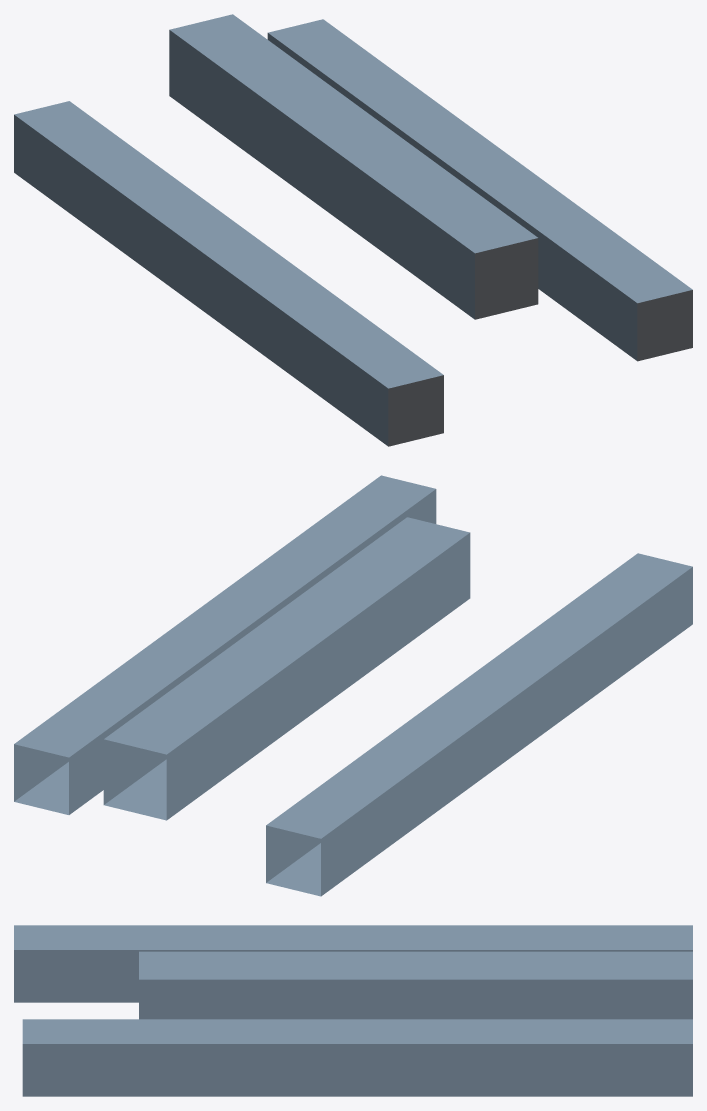
Rendered from island_bldg_08_06.obj.
3 renders of one model, top to bottom at view 1: azimuth 30°, elevation 25°; view 2: azimuth 150°, elevation 25°; view 3: azimuth 270°, elevation 25°, orthographic. The views are drawn at different scales.
Parts seen in each view (by area): view 1: island_bldg_08_06; view 2: island_bldg_08_06; view 3: island_bldg_08_06.
Part boxes in pixels (x1,y1,x2,y2): island_bldg_08_06: (14, 14, 692, 446); island_bldg_08_06: (14, 475, 692, 896); island_bldg_08_06: (14, 925, 692, 1096).
Size of the model in its own units: 156 by 50.6 by 327.
